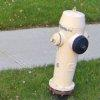a fire hydrant: (52, 9, 90, 96)
